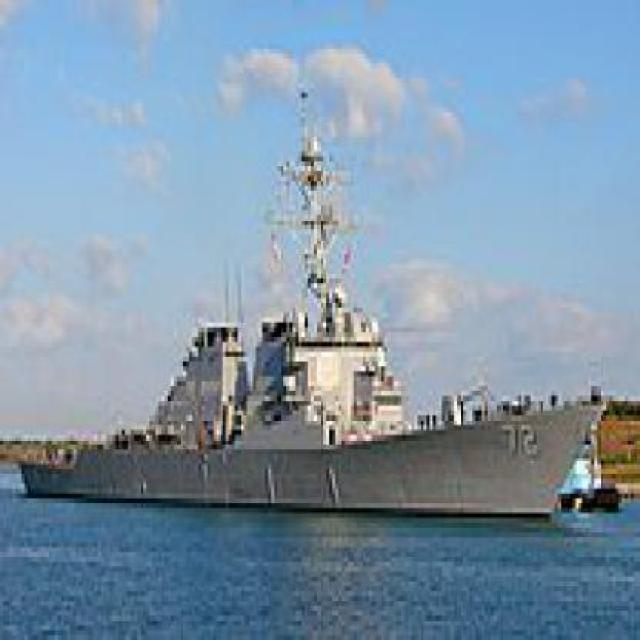warship2: (16, 84, 602, 553)
